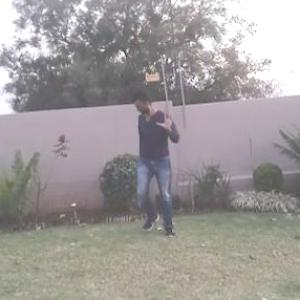follow_hand: (156, 106, 178, 132)
